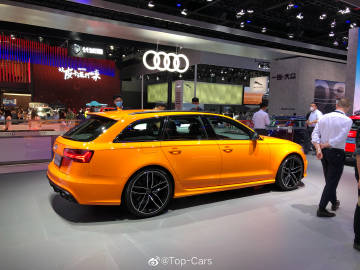other: (52, 109, 311, 208)
